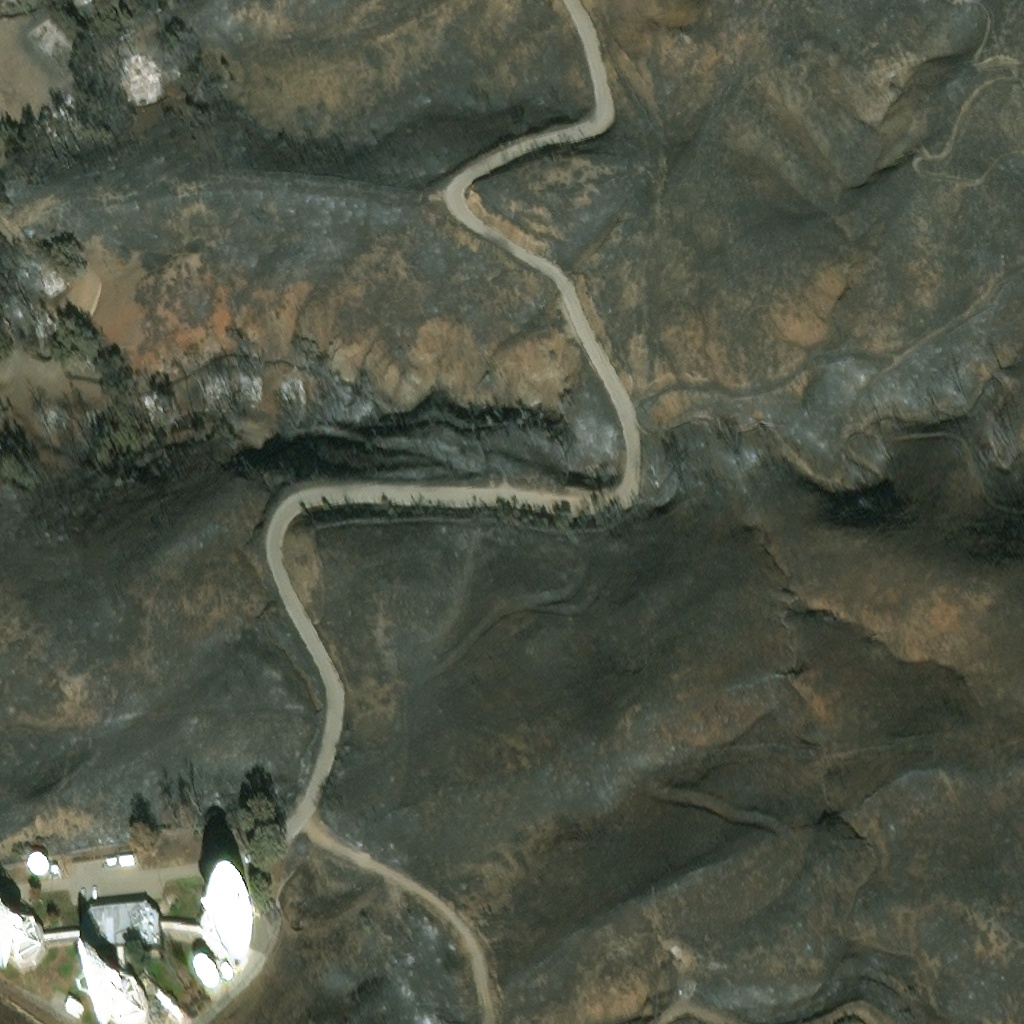0 no-damage: (80, 908, 164, 952), (62, 993, 81, 1012), (119, 856, 134, 864), (105, 857, 118, 865), (49, 861, 56, 871)
3 destroyed: (29, 75, 79, 122), (25, 13, 69, 58), (134, 376, 166, 405), (30, 297, 58, 325), (33, 385, 60, 413), (69, 386, 96, 414), (192, 363, 219, 389), (36, 259, 58, 286), (252, 342, 276, 363), (272, 368, 293, 385), (151, 51, 171, 67), (275, 349, 291, 366), (193, 38, 209, 51)
